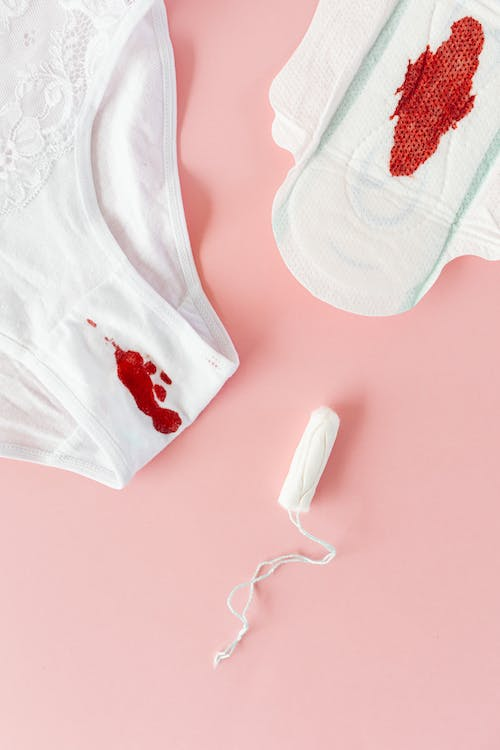blood: (384, 14, 486, 184), (84, 314, 183, 438)
